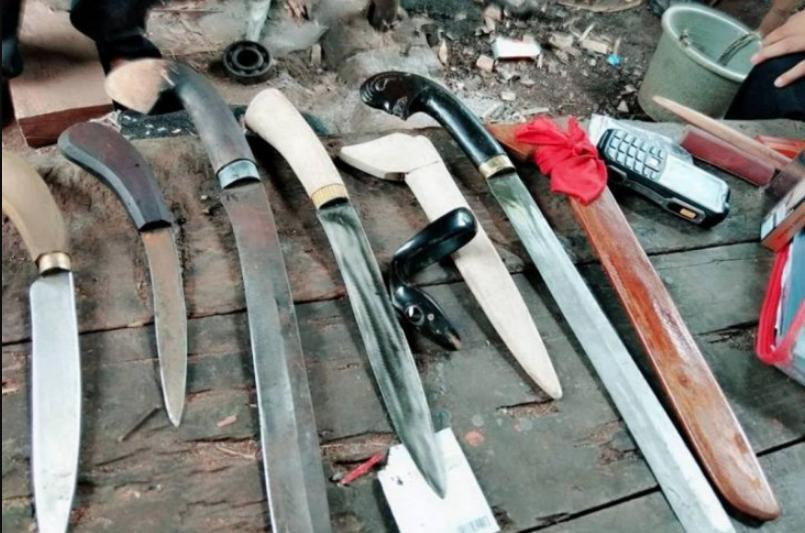espada: (368, 68, 736, 533), (156, 52, 328, 533)
facao: (254, 96, 446, 499), (62, 118, 186, 414), (0, 141, 83, 533)
